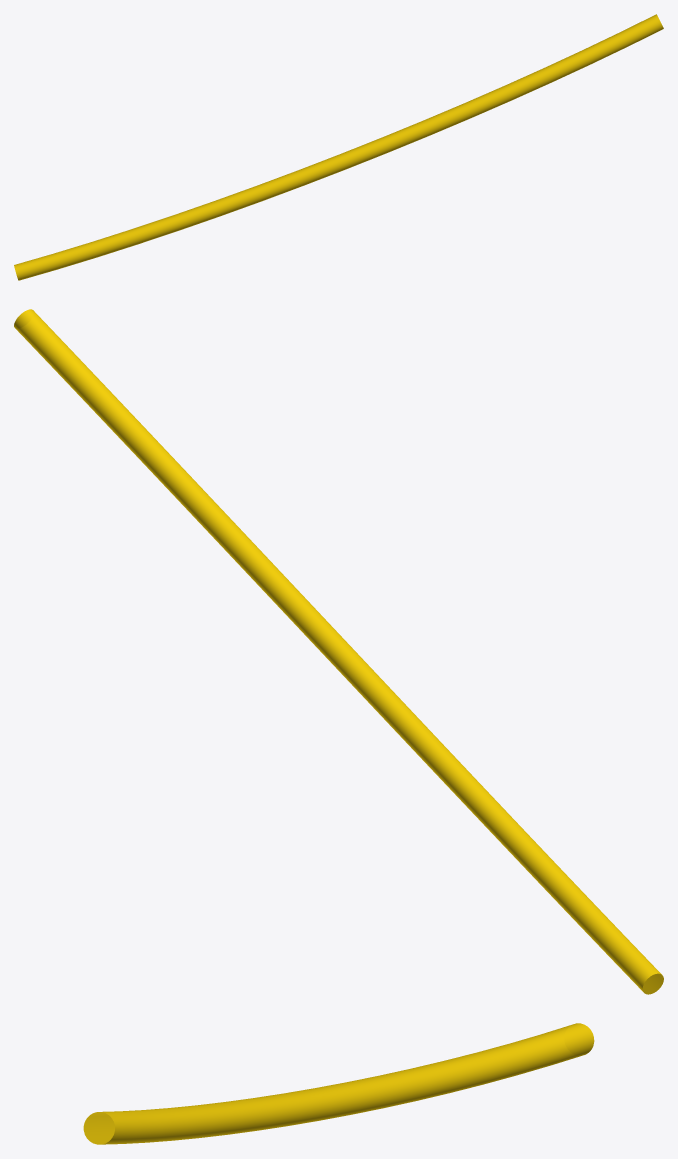
Rendered from Event_421364160_track_28.fbx.
3 renders of one model, top to bottom at view 1: azimuth 30°, elevation 25°; view 2: azimuth 150°, elevation 25°; view 3: azimuth 270°, elevation 25°, orthographic. The views are drawn at different scales.
Parts seen in each view (by area): view 1: Model; view 2: Model; view 3: Model.
Boxes of the visible parts, bbox=[...] form: Model: bbox=[14, 14, 663, 280]; Model: bbox=[14, 309, 663, 994]; Model: bbox=[83, 1023, 594, 1144].
Size of the model in its own units: 1.49 by 0.6043 by 0.6203.
